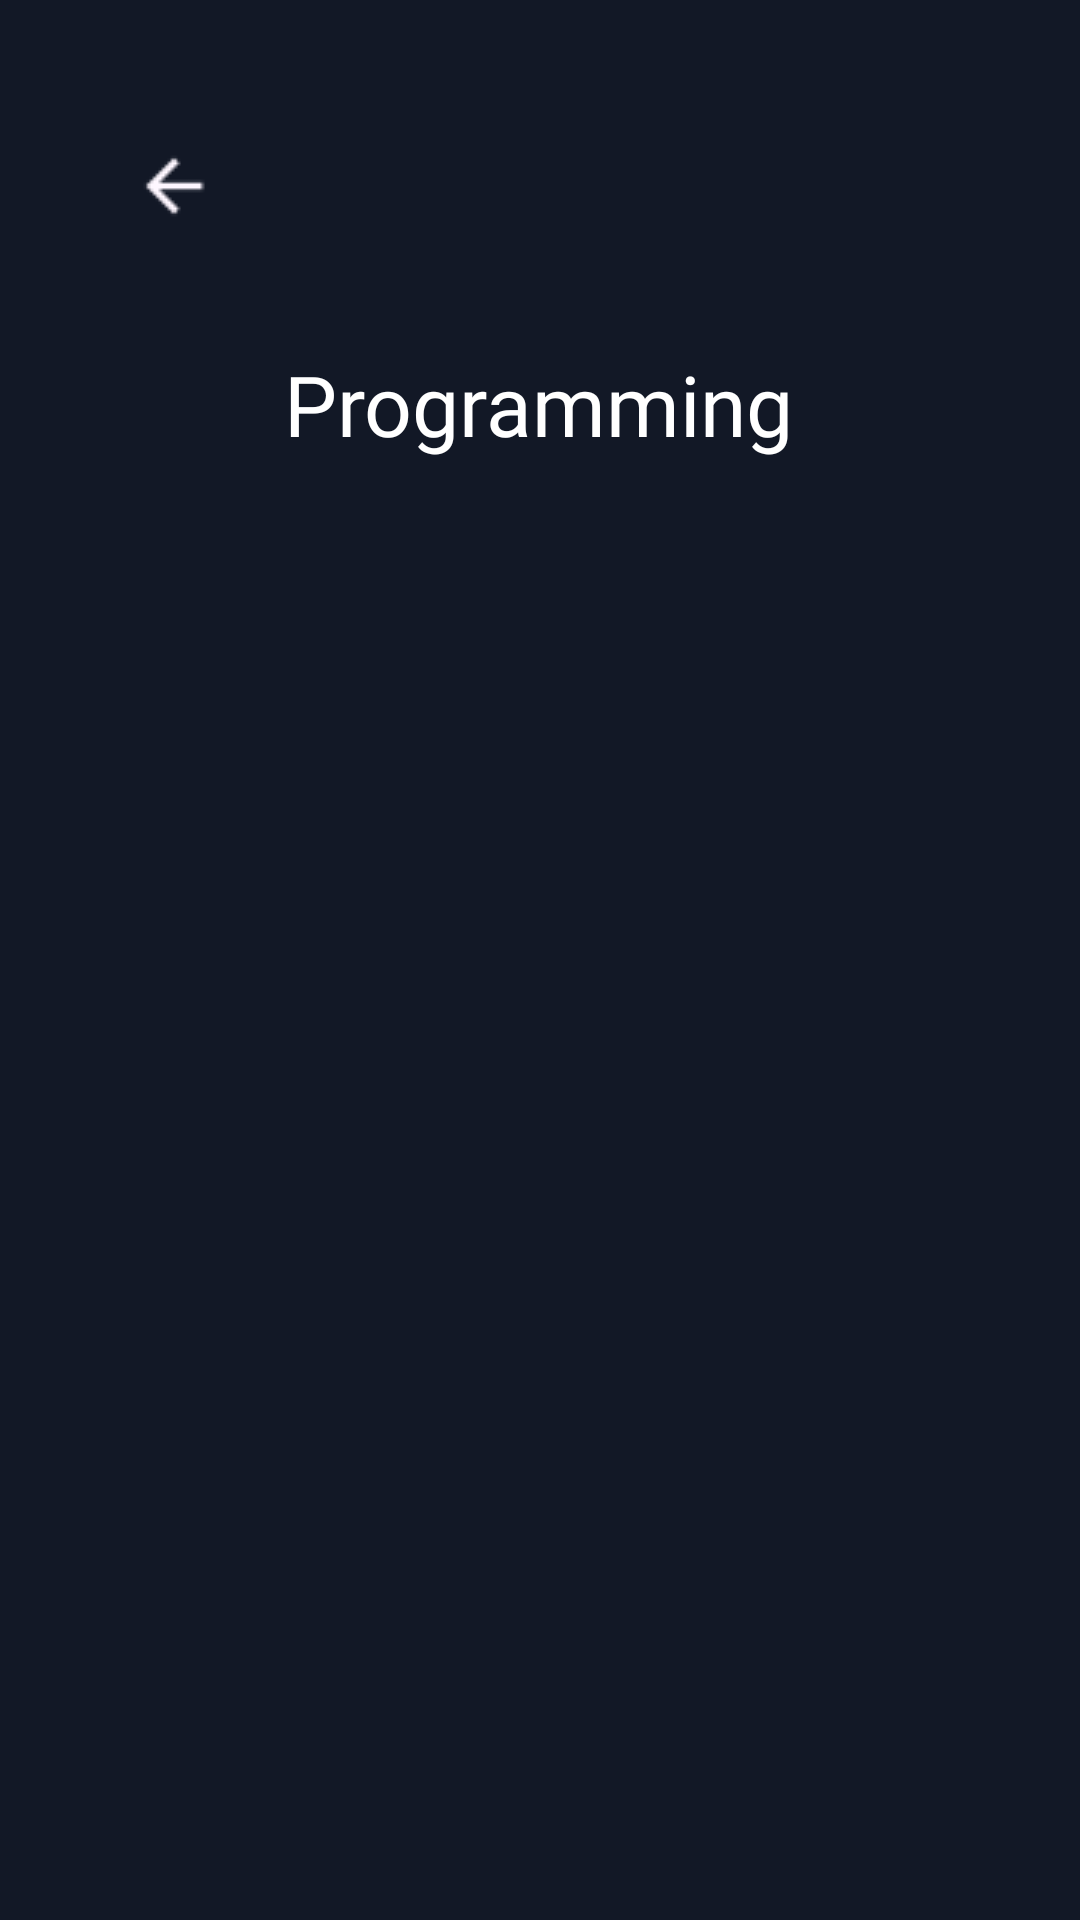

Icon click points for this 1080 × 1920 phone screenshot, format point (x, y):
arrow back: point (175, 186)
